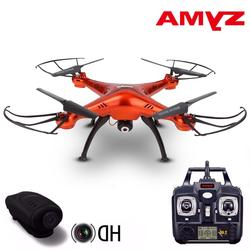drone: (3, 58, 248, 163)
